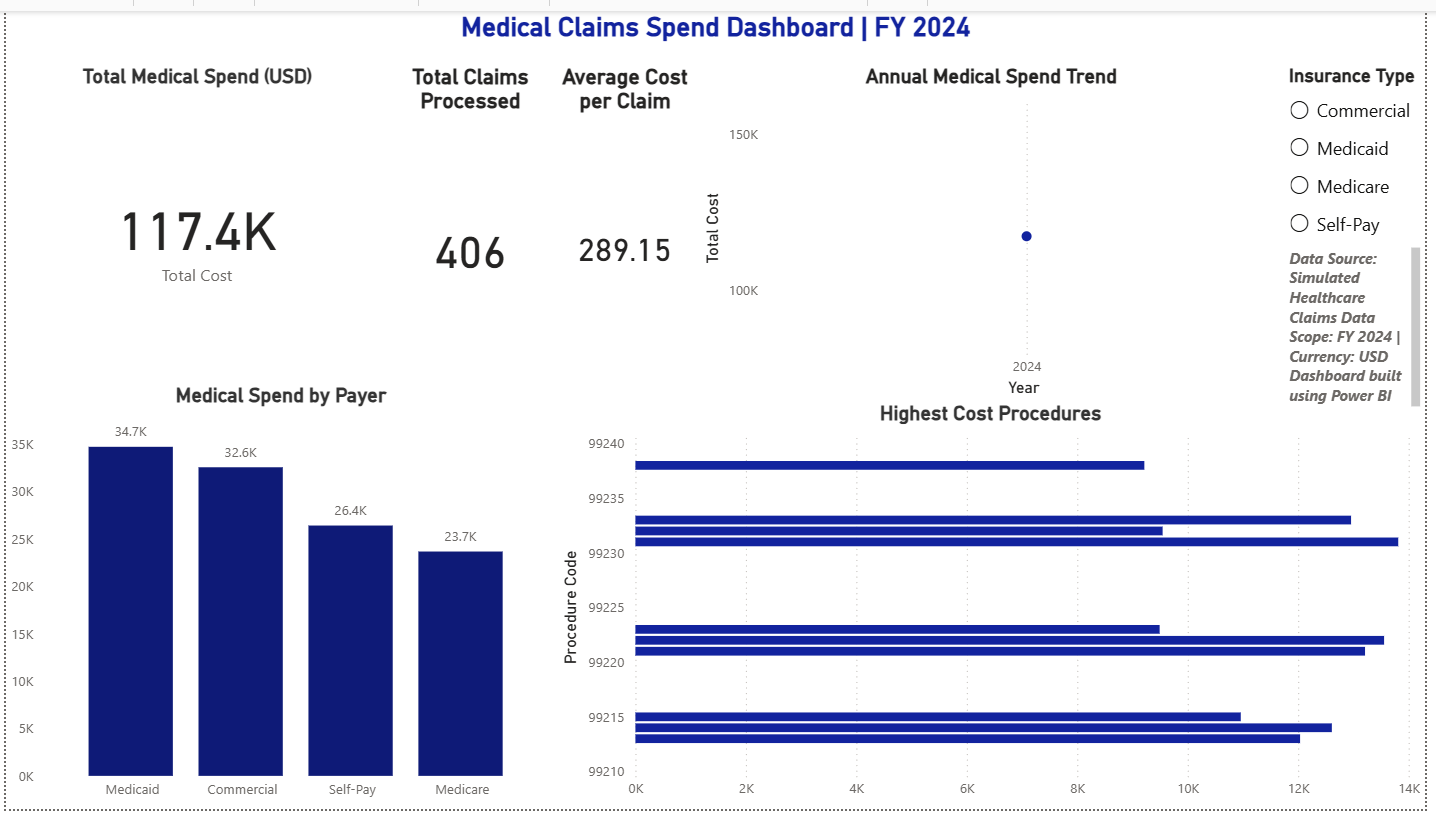

Layout of this report page (visuals, bound fields, positions):
{"tool":"powerbi","page":{"name":"Page 1","canvas":[1280,720],"ordinal":0},"visuals":[{"type":"card","title":"Total Medical Spend (USD)","fields":{"Values":["claims_data_csv (3).Total Cost"]},"box":[0,48,344.8,288],"z":0,"group":"g1"},{"type":"lineChart","title":"Annual Medical Spend Trend","fields":{"Category":["claims_data_csv (3).Year"],"Y":["claims_data_csv (3).Total Cost"]},"box":[624,48,528,304],"z":0},{"type":"clusteredBarChart","title":"Highest Cost Procedures","fields":{"Category":["claims_data_csv (3).Procedure Code"],"Y":["claims_data_csv (3).Total Cost"]},"box":[496,352,784,368],"z":1000},{"type":"clusteredColumnChart","title":"Medical Spend by Payer","fields":{"Category":["claims_data_csv (3).Insurance Type"],"Y":["claims_data_csv (3).Total Cost"]},"box":[0,336,496,384],"z":2000},{"type":"shape","title":"Medical Claims Spend Dashboard | FY 2024","box":[0,0,1280,32],"z":3000},{"type":"card","title":"Total Claims Processed","fields":{"Values":["claims_data_csv (3).Total Claims"]},"box":[344.8,48,147.8,288],"z":4000,"group":"g1"},{"type":"group","id":"g1","title":"Group 1","box":[0,48,624,288],"z":4000},{"type":"card","title":"Average Cost per Claim","fields":{"Values":["claims_data_csv (3).Avg Cost per Claim"]},"box":[492.6,48,131.4,288],"z":5000,"group":"g1"},{"type":"listSlicer","fields":{"Values":["claims_data_csv (3).Insurance Type"]},"box":[1152,48,128,304],"z":5000},{"type":"textbox","box":[1152,208,128,160],"z":6000}]}

Visuals, with their boxes in screenshot pixels (x1, y1, x2, y2), scaled from the page's 1280x720 canvas onto the 1436x815 screenshot:
"Total Medical Spend (USD)" card: 0 54 387 380
"Annual Medical Spend Trend" lineChart: 700 54 1292 398
"Highest Cost Procedures" clusteredBarChart: 556 398 1435 814
"Medical Spend by Payer" clusteredColumnChart: 0 380 556 814
"Medical Claims Spend Dashboard | FY 2024" shape: 0 0 1435 36
"Total Claims Processed" card: 387 54 553 380
"Group 1" group: 0 54 700 380
"Average Cost per Claim" card: 553 54 700 380
listSlicer - claims_data_csv (3).Insurance Type: 1292 54 1435 398
textbox: 1292 235 1435 417
